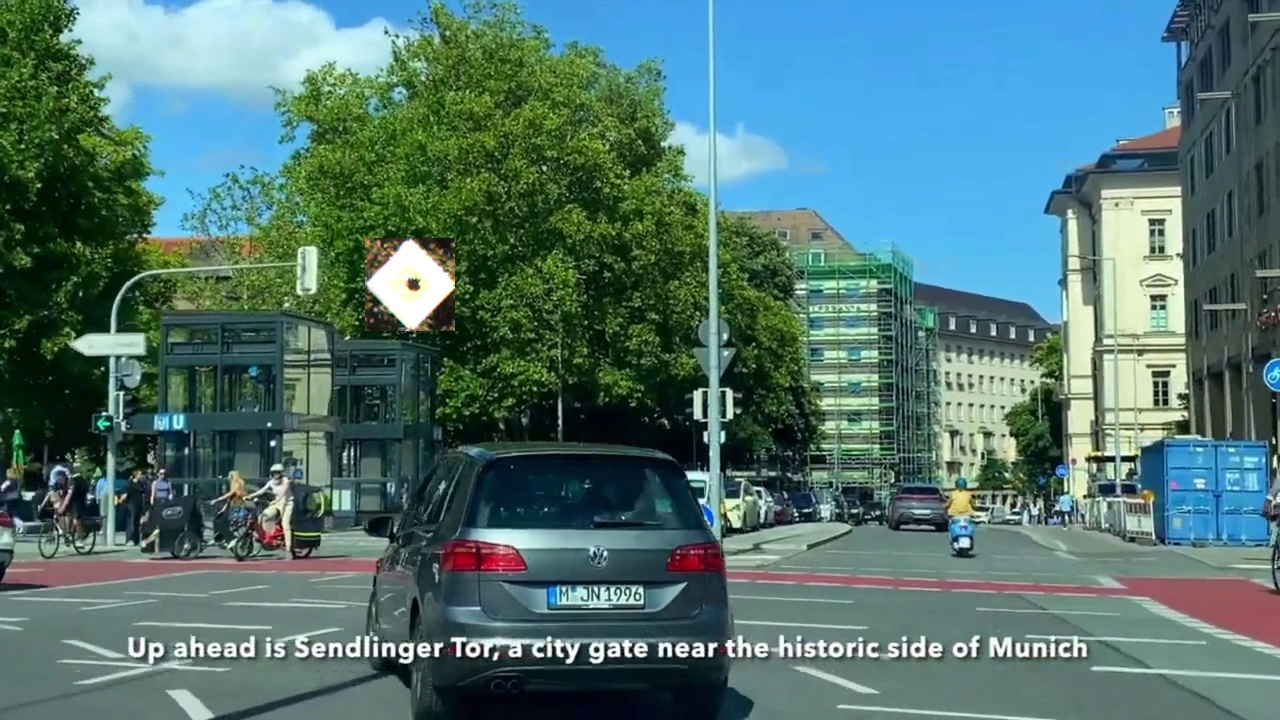Priority road: (365, 238, 455, 331)
